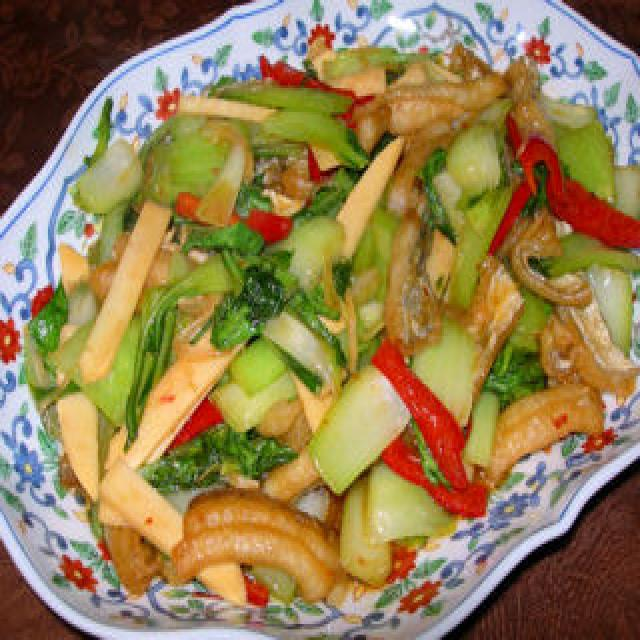蔬菜料理: (0, 53, 640, 592)
